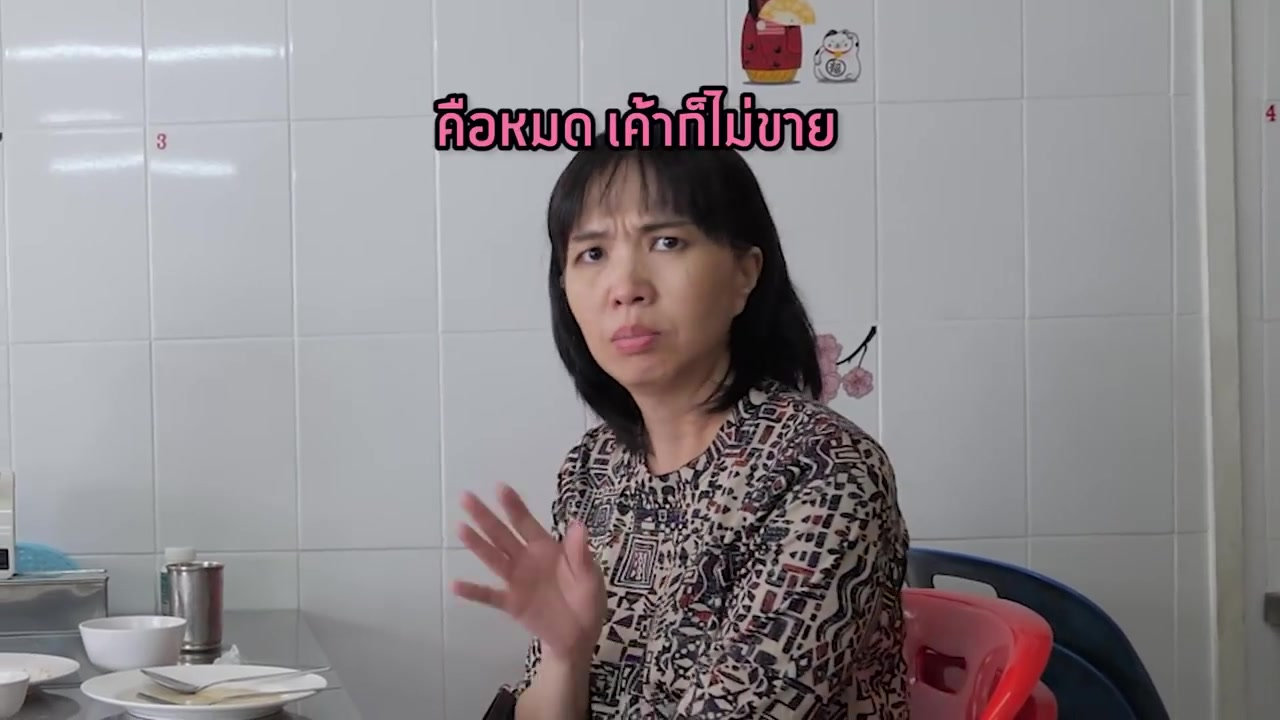text-label: (426, 83, 844, 158)
